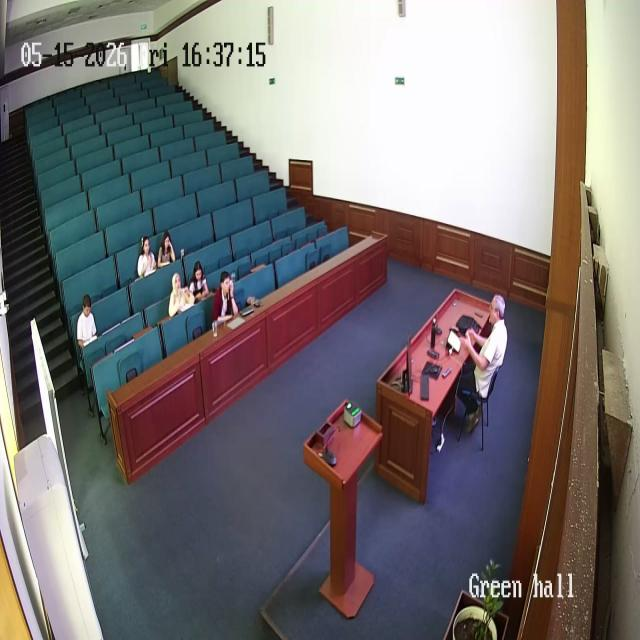person: (452, 294, 508, 436), (212, 268, 240, 326), (75, 294, 98, 350), (168, 272, 194, 318), (188, 261, 210, 303), (137, 235, 157, 278), (157, 229, 176, 267)
